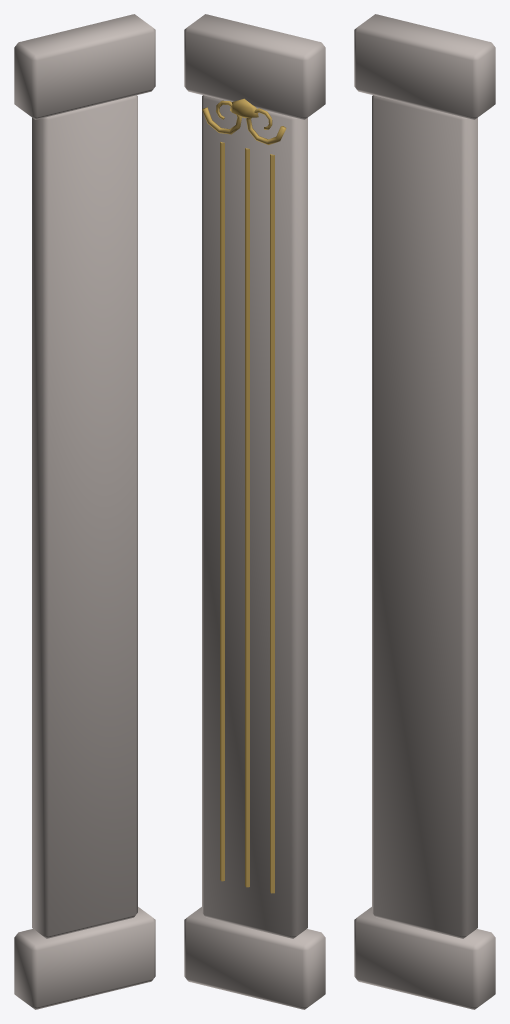
Rendered from pilaster.glb.
3 views of the same model, side by side, from view 1: azimuth 30°, elevation 25°; view 2: azimuth 150°, elevation 25°; view 3: azimuth 330°, elevation 25° (orthographic).
Visible parts, largest first — view 1: pilaster; view 2: pilaster; view 3: pilaster.
Boxes of the visible parts, bbox=[...] form: pilaster: bbox=[14, 14, 155, 1009]; pilaster: bbox=[184, 14, 325, 1009]; pilaster: bbox=[354, 14, 495, 1009].
Size of what is drawn, in the model's own units: 0.6 by 4.4 by 0.2.
